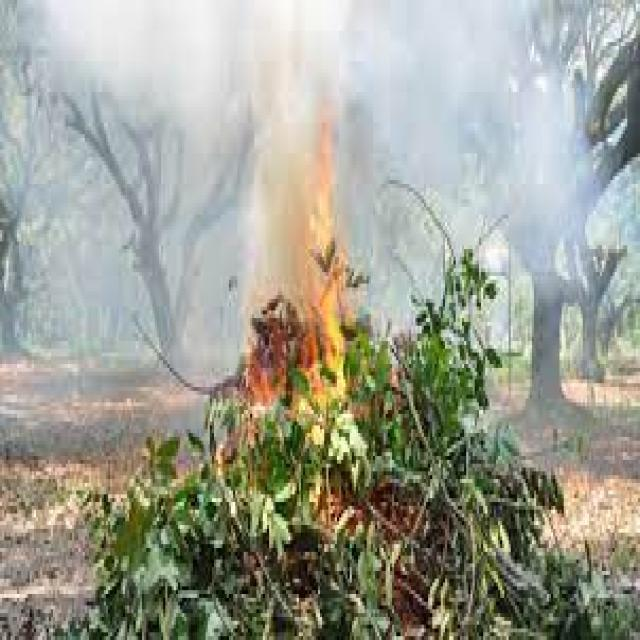Fire: (304, 142, 359, 394)
Smoke: (234, 10, 586, 246), (33, 0, 580, 141)
